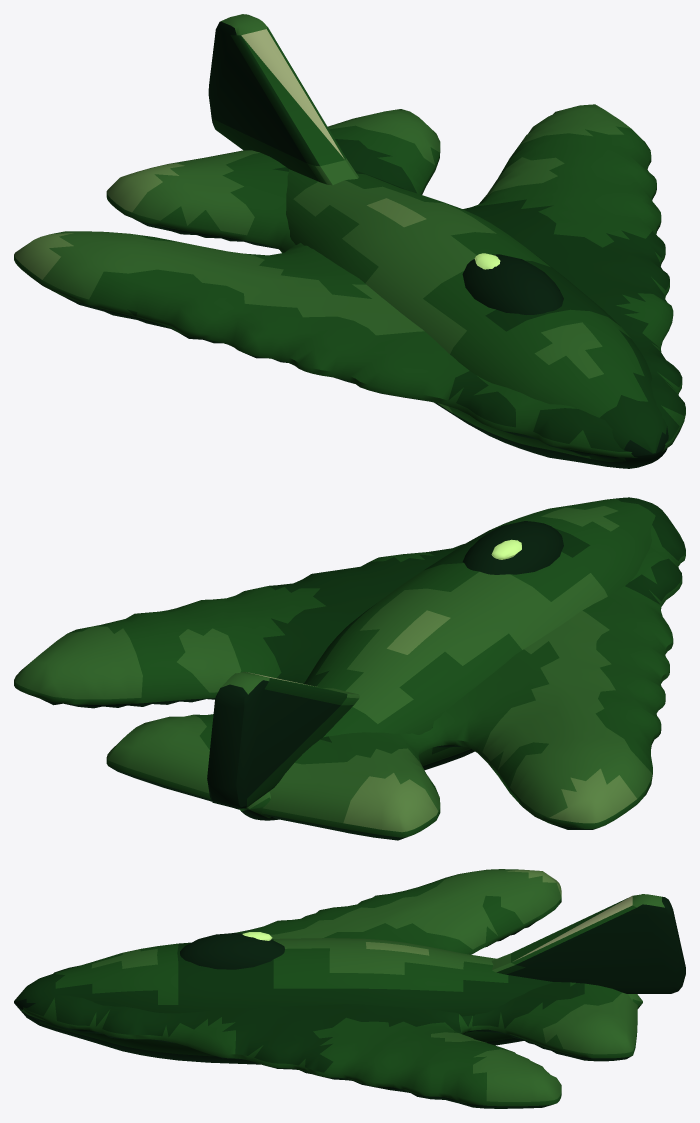
Rendered from jet_emerald.glb.
3 renders of one model, top to bottom at view 1: azimuth 30°, elevation 25°; view 2: azimuth 150°, elevation 25°; view 3: azimuth 270°, elevation 25°, orthographic. The views are drawn at different scales.
Parts seen in each view (by area): view 1: wing; view 2: wing; view 3: wing.
Part boxes in pixels (bbox=[...]): wing: bbox=[14, 14, 685, 468]; wing: bbox=[14, 497, 685, 840]; wing: bbox=[14, 869, 685, 1108].
Size of the model in its own units: 21 by 6.88 by 26.5.
